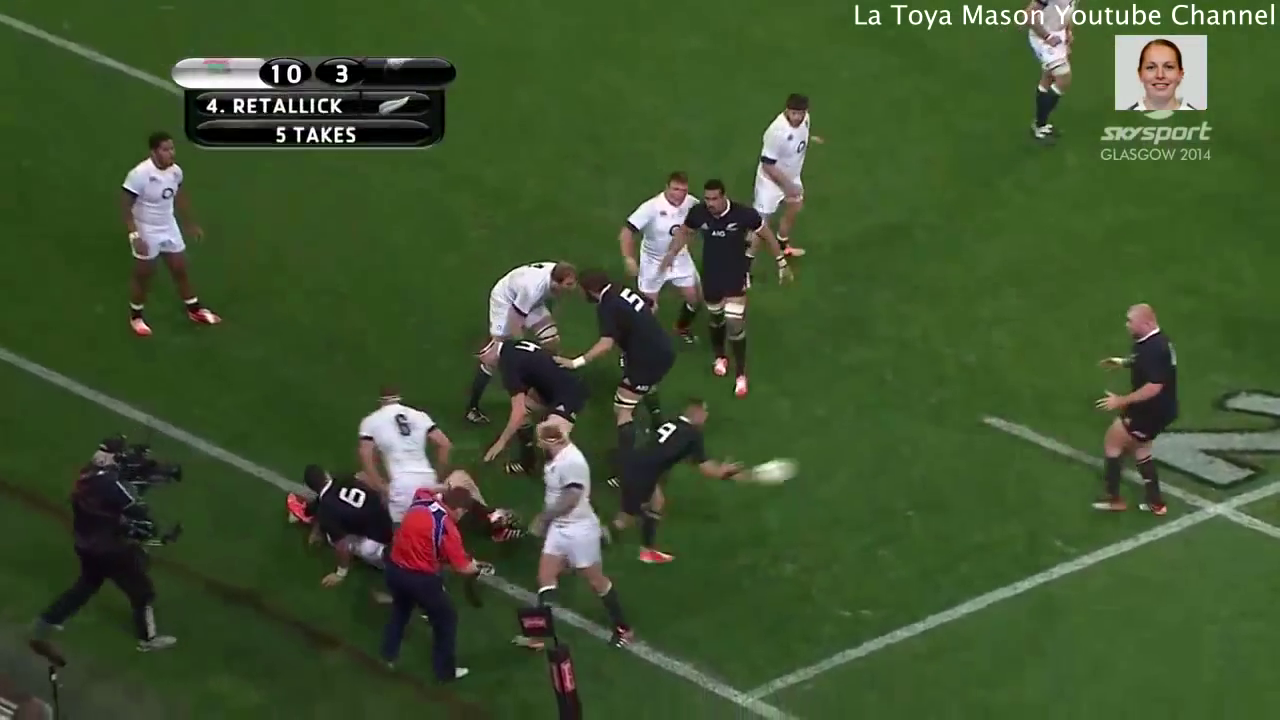ball: (742, 445, 805, 495)
player: (497, 407, 645, 666), (645, 172, 804, 409), (585, 384, 749, 575), (111, 122, 240, 346), (547, 256, 688, 452), (374, 470, 497, 692), (1070, 294, 1180, 535), (463, 249, 591, 434), (612, 158, 716, 360), (744, 75, 837, 281), (462, 331, 583, 478), (353, 376, 461, 536), (1016, 1, 1087, 148), (294, 459, 405, 540)
